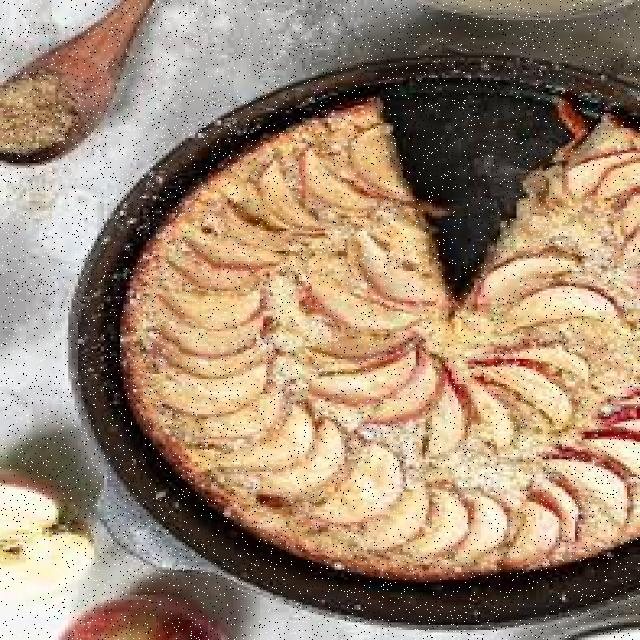Apple: (0, 479, 94, 610), (470, 242, 580, 320), (476, 351, 574, 429), (222, 398, 313, 482), (307, 343, 427, 405), (59, 597, 226, 640), (314, 447, 402, 527), (296, 275, 414, 334), (508, 283, 632, 339), (342, 236, 432, 309), (158, 230, 253, 296), (146, 339, 275, 387), (145, 287, 282, 332), (369, 351, 439, 436), (552, 451, 629, 527), (504, 487, 566, 581), (291, 154, 376, 220), (152, 320, 287, 360), (146, 373, 254, 423), (191, 389, 279, 450), (452, 480, 508, 572), (369, 479, 433, 558), (415, 474, 471, 564), (419, 372, 468, 471), (288, 422, 344, 501), (346, 128, 400, 206), (220, 206, 309, 250), (260, 154, 307, 233), (182, 234, 280, 270), (590, 427, 640, 482), (551, 461, 576, 551), (468, 398, 504, 454)
